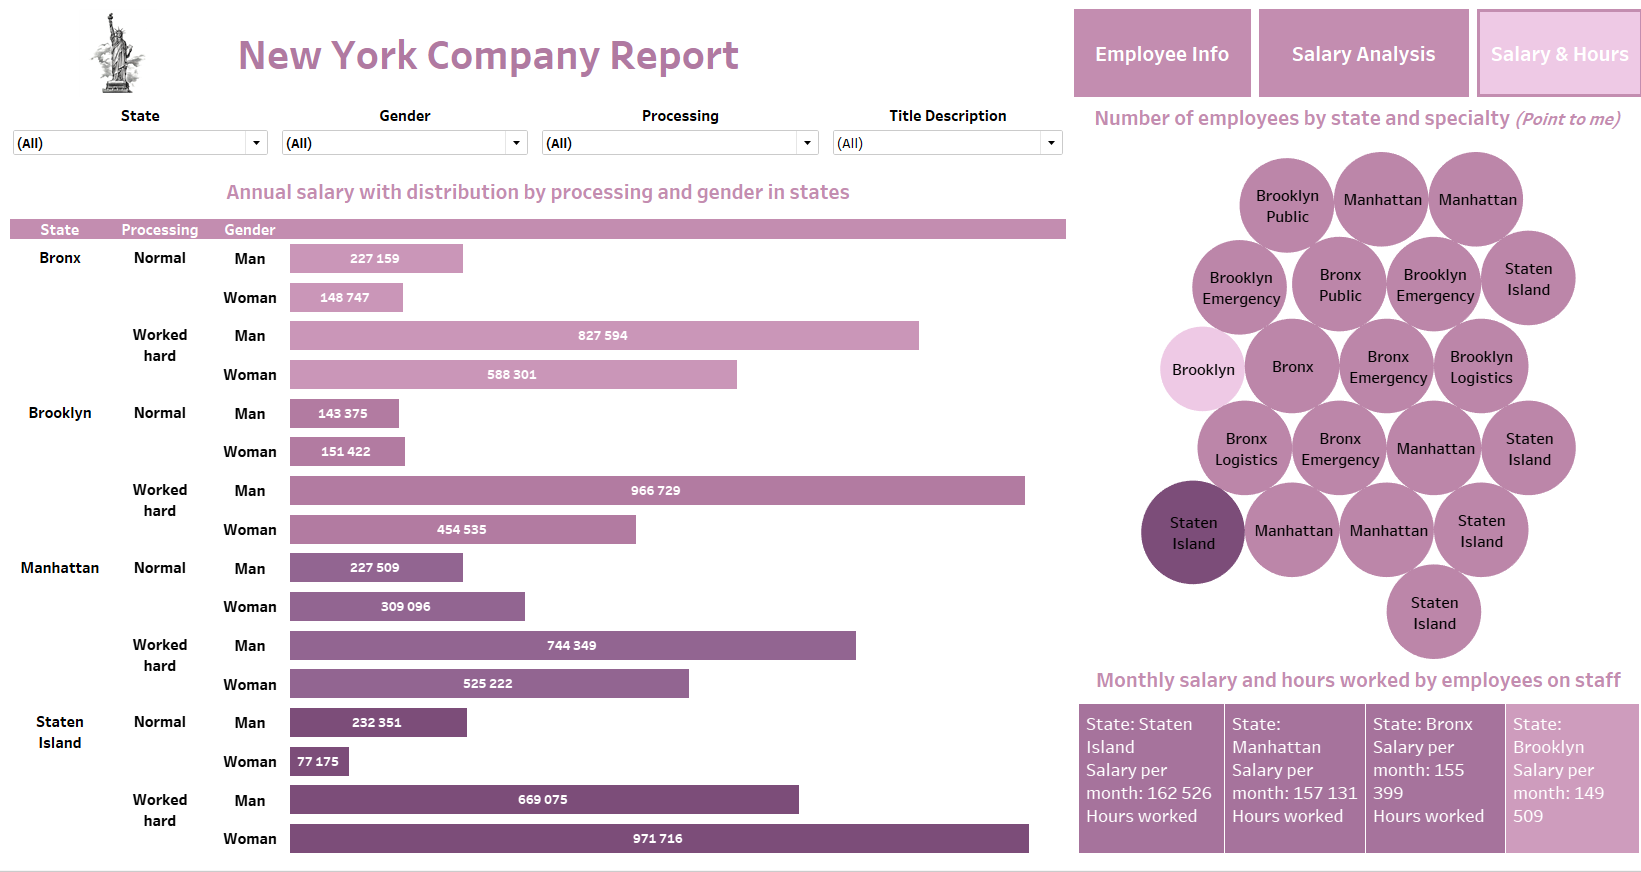

The page's visual inventory and layout, read from the dashboard file:
{"tool":"tableau","page":{"name":"Salary & Hours","canvas":[1000,1000],"units":"permille","ordinal":1},"visuals":[{"type":"image","box":[4.8,9.2,134.9,109.9]},{"type":"text","box":[139.8,9.2,507.4,109.9]},{"type":"dashboard-object","box":[647.2,9.2,111.4,110]},{"type":"dashboard-object","box":[758.6,9.2,131.6,110]},{"type":"dashboard-object","box":[890.2,9.2,105,110]},{"type":"filter","title":"7","param":"[federated.066786l0dhilq216jq1yn0u2ozgm].[none:Work Location Borough:nk]","box":[4.8,119,162.3,75.7]},{"type":"filter","title":"7","param":"[federated.066786l0dhilq216jq1yn0u2ozgm].[none:Calculation_574208998342590466:nk","box":[167.2,119,156.9,75.7]},{"type":"filter","title":"7","param":"[federated.066786l0dhilq216jq1yn0u2ozgm].[none:Calculation_809240607124340737:nk","box":[324.1,119,175.6,75.7]},{"type":"filter","title":"1 ","param":"[federated.066786l0dhilq216jq1yn0u2ozgm].[none:Title Description:nk]","box":[499.7,119,147.5,75.7]},{"type":"text","box":[647.2,119.1,348,36.7]},{"type":"worksheet","title":"1 ","mark":"Circle","box":[647.2,155.8,348,607.1]},{"type":"text","box":[4.8,194.7,642.4,55]},{"type":"worksheet","title":"7","mark":"Automatic","rows":["Work Location Borough","Calculation_809240607124340737","Calculation_574208998342590466"],"cols":["Basic salary per year"],"box":[4.8,249.7,642.4,741.1]},{"type":"text","box":[647.2,762.9,348,36.6]},{"type":"worksheet","title":"8?","mark":"Automatic","box":[647.2,799.5,348,191.3]}]}

Visuals, with their boxes on the dashboard's canvas, which has no fixed pixel size, in thousandths of its width and height (x1, y1, x2, y2). These are canvas units, not pixel positions in the 1641x872 screenshot, which may show the page scaled, cropped or inside an application window:
image: <box>5,9,140,119</box>
text: <box>140,9,647,119</box>
dashboard-object: <box>647,9,759,119</box>
dashboard-object: <box>759,9,890,119</box>
dashboard-object: <box>890,9,995,119</box>
"7" filter: <box>5,119,167,195</box>
"7" filter: <box>167,119,324,195</box>
"7" filter: <box>324,119,500,195</box>
"1 " filter: <box>500,119,647,195</box>
text: <box>647,119,995,156</box>
"1 " worksheet (Circle marks): <box>647,156,995,763</box>
text: <box>5,195,647,250</box>
"7" worksheet: <box>5,250,647,991</box>
text: <box>647,763,995,800</box>
"8?" worksheet: <box>647,800,995,991</box>
